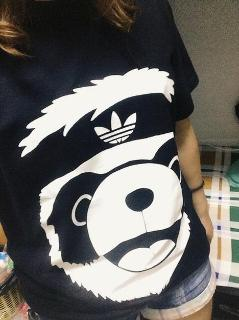short sleeve top: (0, 0, 210, 319)
shorts: (15, 216, 218, 319)
